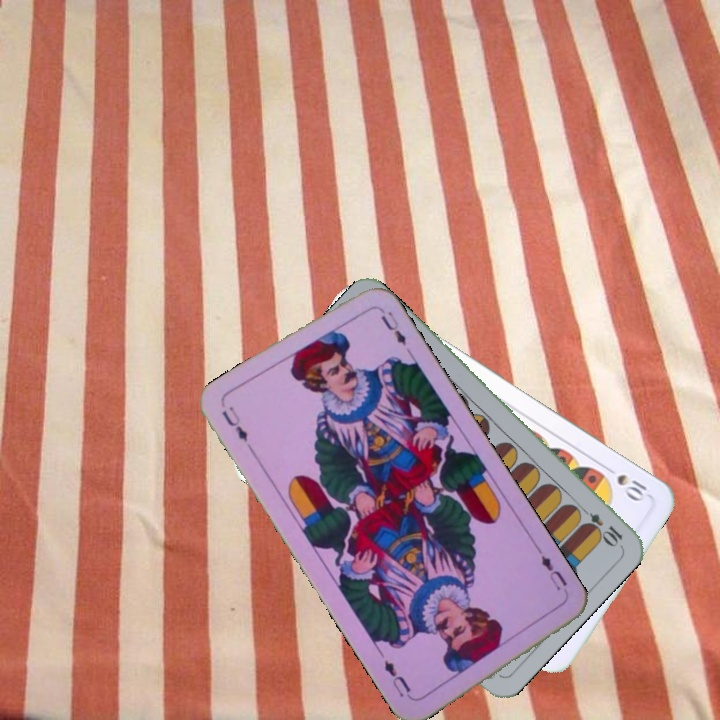E10: (574, 502, 626, 548)
EU: (533, 545, 570, 593), (218, 401, 251, 445)
S10: (600, 461, 650, 504)
